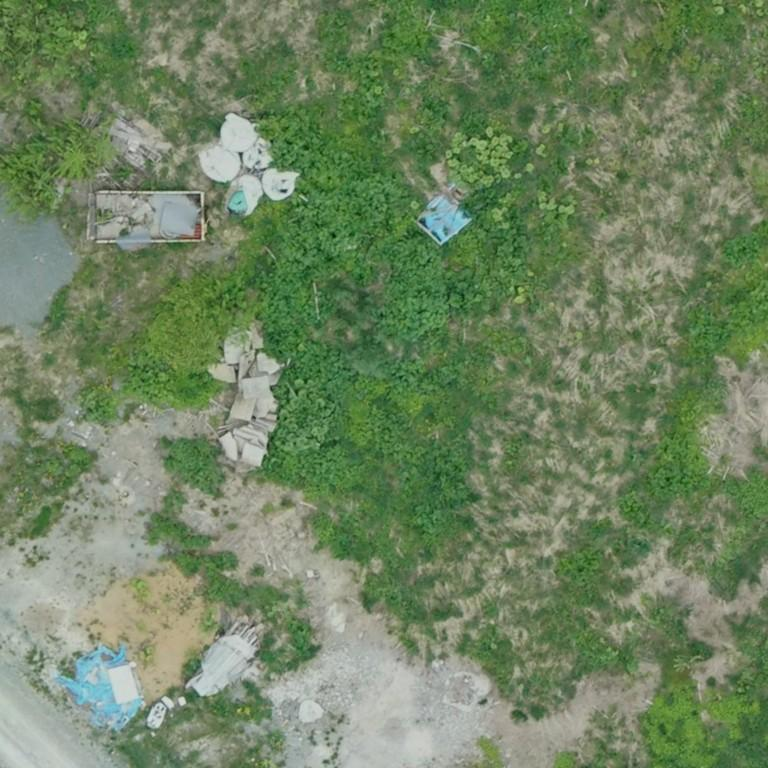hogweed: (257, 108, 486, 401), (404, 441, 473, 531), (279, 444, 364, 494), (476, 216, 529, 296), (166, 439, 218, 490), (390, 359, 452, 393), (175, 554, 236, 575), (290, 620, 309, 650)
